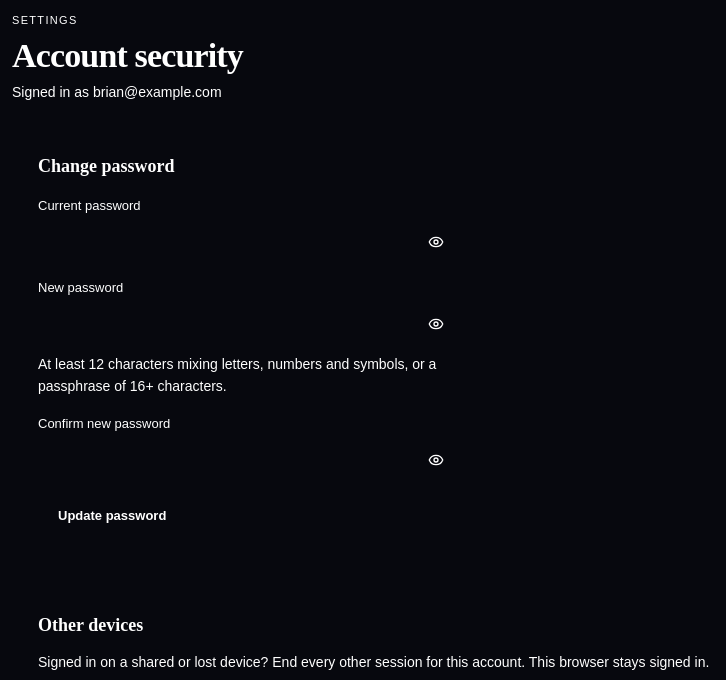
Test: change password › explains server-side rejections in plain words
Type "Old-Password-2025" into the password field labelled "Current password". click: (248,242)
box: [38, 222, 458, 262]
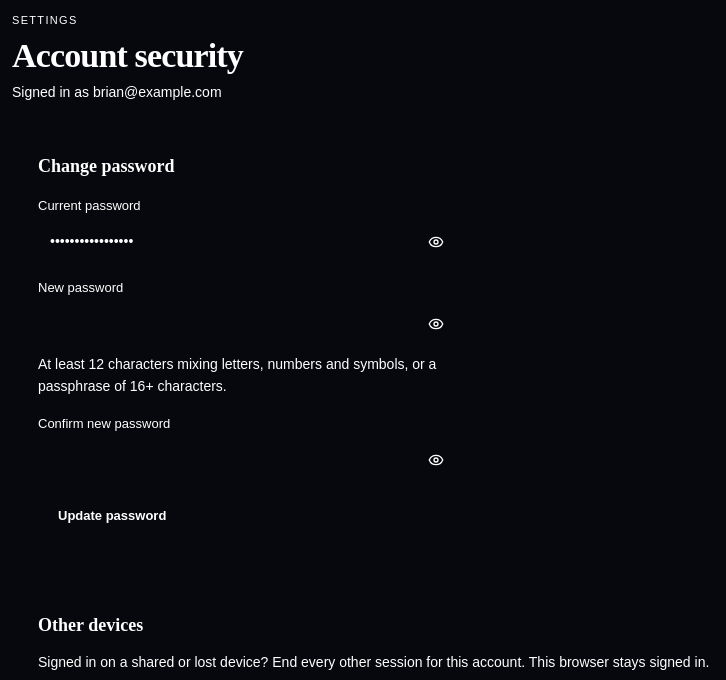
Type "Harbor-Lantern-2026" into the password field labelled "New password". click: (248,324)
box: [38, 304, 458, 345]
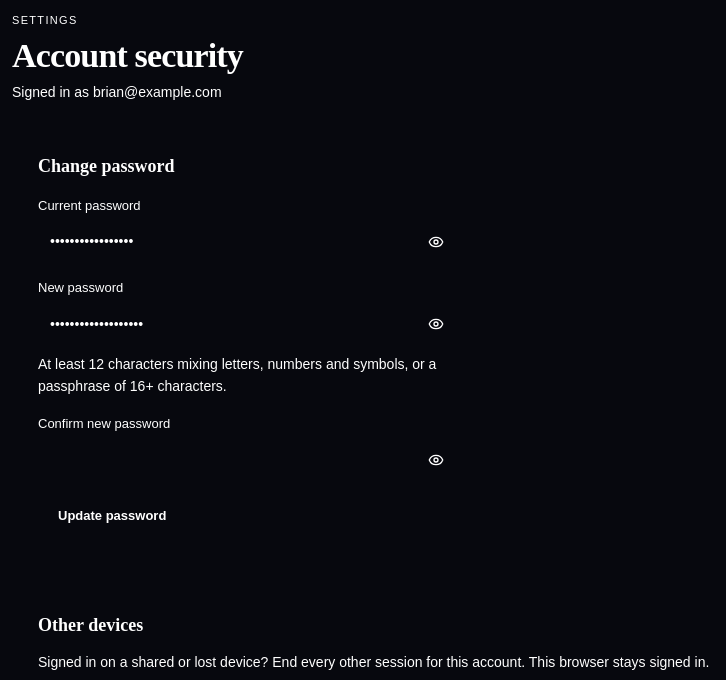
Type "Harbor-Lantern-2026" into the password field labelled "Confirm new password". click: (248,460)
box: [38, 439, 458, 480]
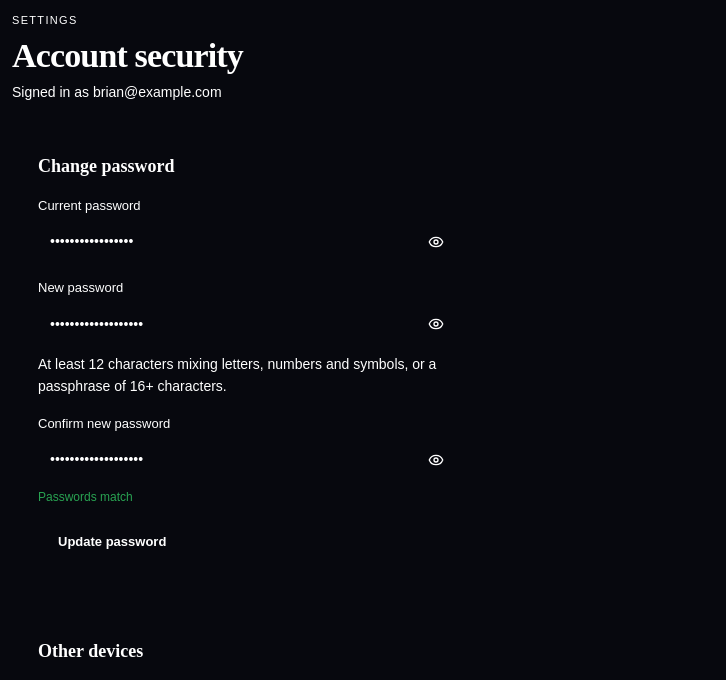
Click the button "Update password". click: (112,542)
box: [38, 522, 186, 562]
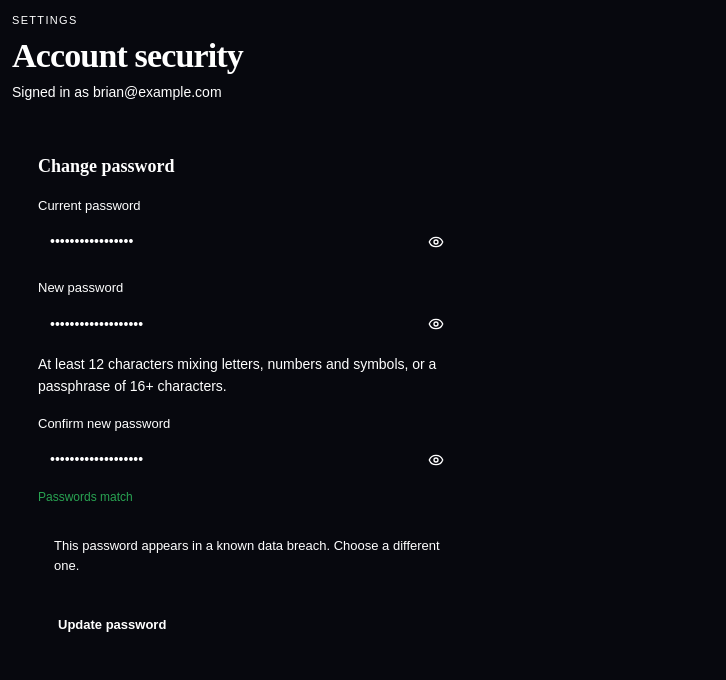
Expected: the message reads "This password appears in a known data breach. Choose a different one.", [54, 538, 440, 573]
